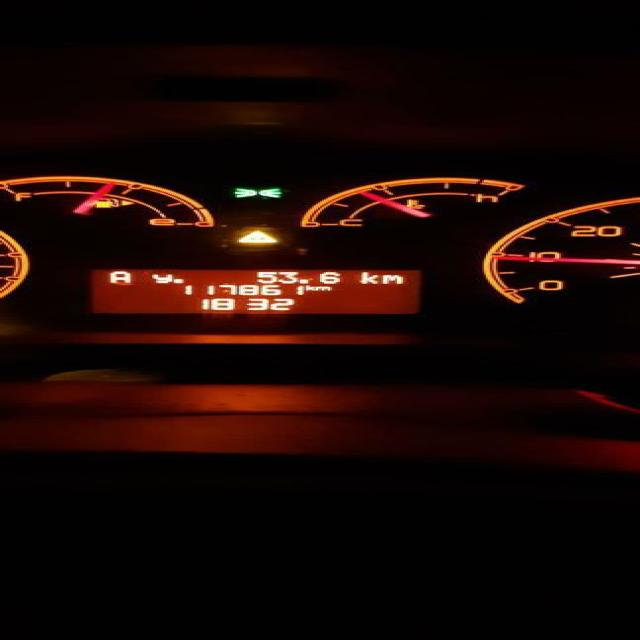odometer: (87, 268, 423, 314)
